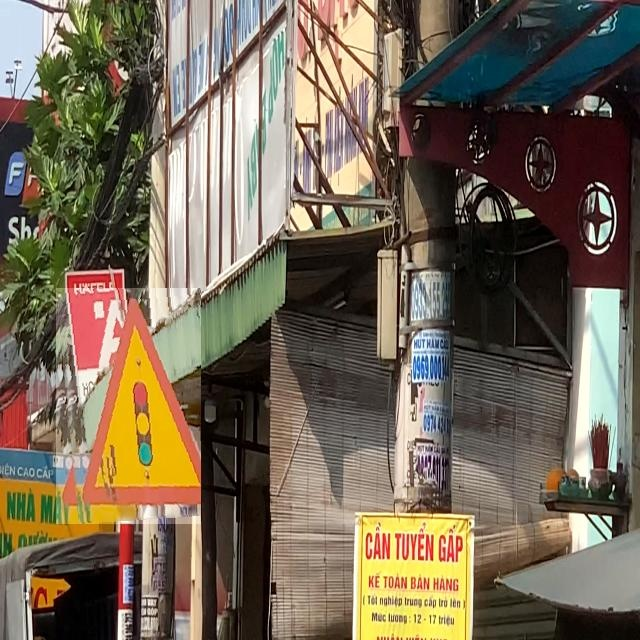bien_nguy_hiem: (56, 288, 201, 524)
